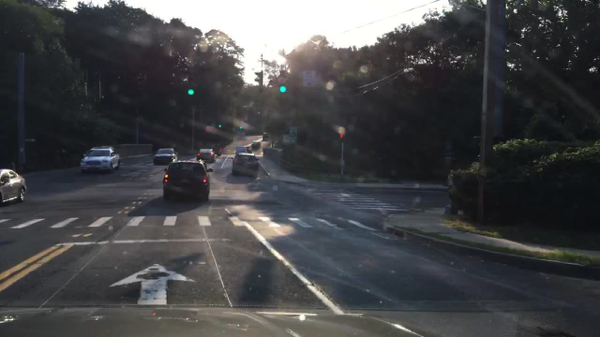car: (162, 162, 214, 204), (80, 147, 122, 175), (1, 169, 26, 207), (232, 154, 261, 180), (155, 146, 177, 167), (198, 149, 215, 162), (250, 140, 261, 150), (261, 132, 271, 141), (235, 145, 244, 153), (216, 146, 222, 158), (244, 146, 251, 153)
traffic light: (255, 72, 266, 94), (278, 70, 287, 93), (338, 129, 345, 144), (188, 88, 194, 96), (238, 126, 242, 131), (216, 125, 221, 129)
traffic sign: (443, 140, 455, 155), (291, 128, 298, 144), (26, 137, 37, 143), (282, 135, 289, 144)
